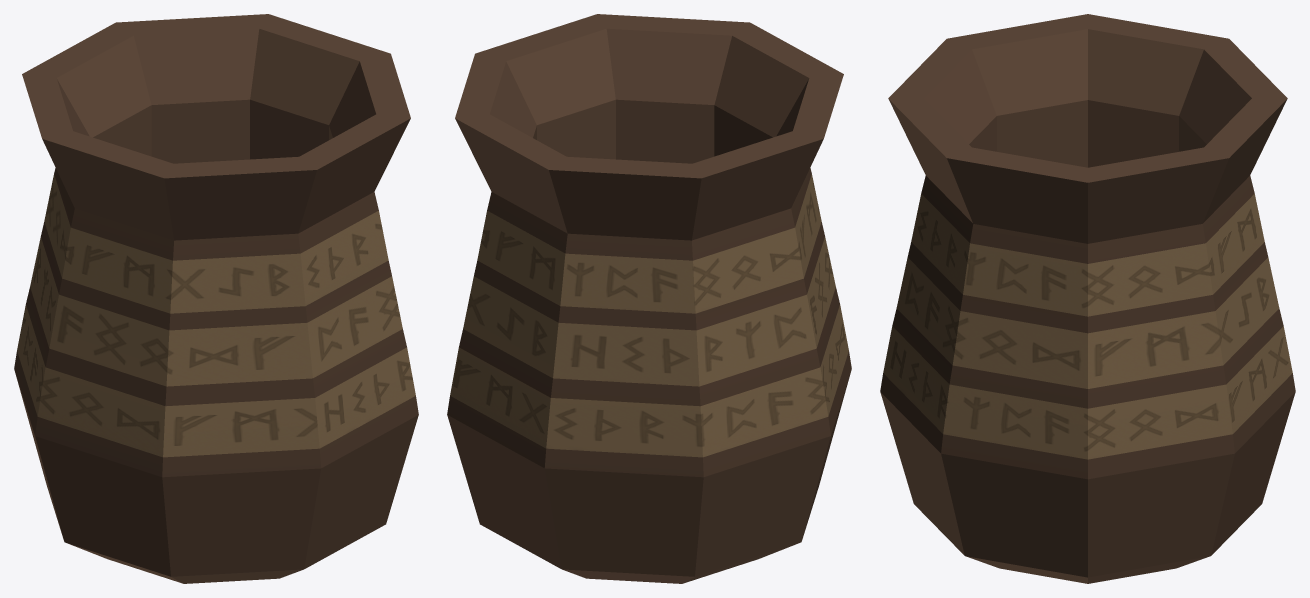
File: SM_Prop_Cup_01.fbx
3 views of the same model, side by side, from view 1: azimuth 30°, elevation 25°; view 2: azimuth 150°, elevation 25°; view 3: azimuth 270°, elevation 25° (orthographic).
Parts seen in each view (by area): view 1: SM_Prop_Cup_01; view 2: SM_Prop_Cup_01; view 3: SM_Prop_Cup_01.
Boxes of the visible parts, x1,y1,x2,y2 form: SM_Prop_Cup_01: (14, 14, 418, 583); SM_Prop_Cup_01: (447, 14, 851, 583); SM_Prop_Cup_01: (880, 14, 1295, 583).
Size of the model in its own units: 13.9 by 15.97 by 13.9.
